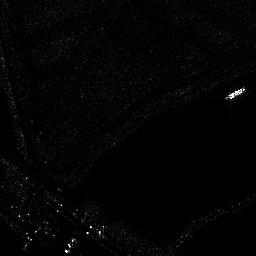ship: (225, 87, 247, 101)
